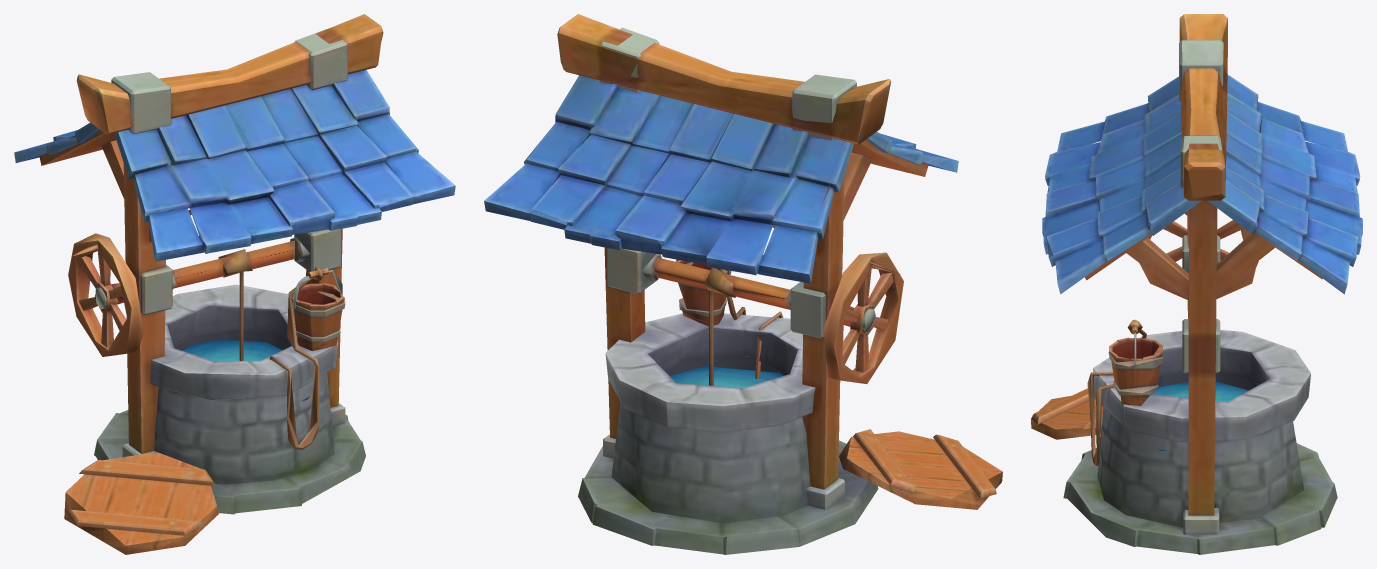
Rendered from Wells.glb.
The picture shows the model from 3 angles, left to right: view 1: azimuth 30°, elevation 25°; view 2: azimuth 150°, elevation 25°; view 3: azimuth 270°, elevation 25°; orthographic projection. The views are drawn at different scales.
Visible parts, largest first — view 1: 3d66-Editable_Poly-22470861-001; view 2: 3d66-Editable_Poly-22470861-001; view 3: 3d66-Editable_Poly-22470861-001.
Part boxes in pixels (bbox=[...]): 3d66-Editable_Poly-22470861-001: bbox=[14, 14, 455, 554]; 3d66-Editable_Poly-22470861-001: bbox=[484, 14, 1002, 554]; 3d66-Editable_Poly-22470861-001: bbox=[1031, 14, 1362, 554].
Size of the model in its own units: 0.7982 by 0.8788 by 0.639.
1 material, 1 textured.
